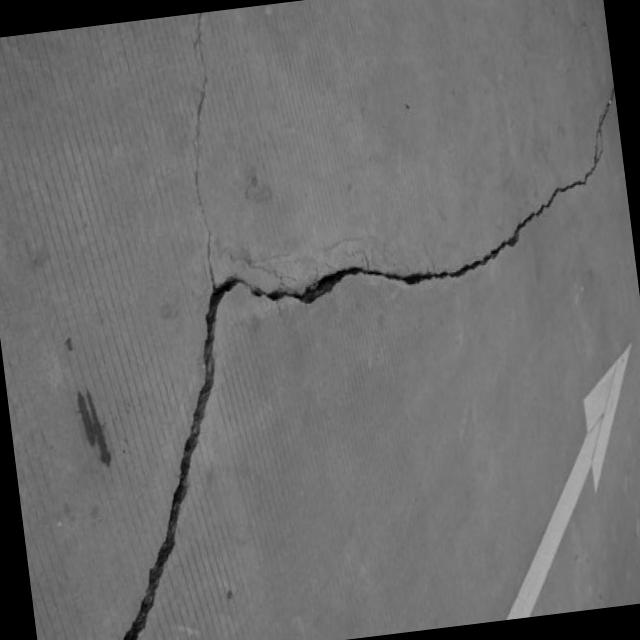crack: (228, 88, 635, 314), (65, 289, 270, 640), (173, 13, 245, 290)
